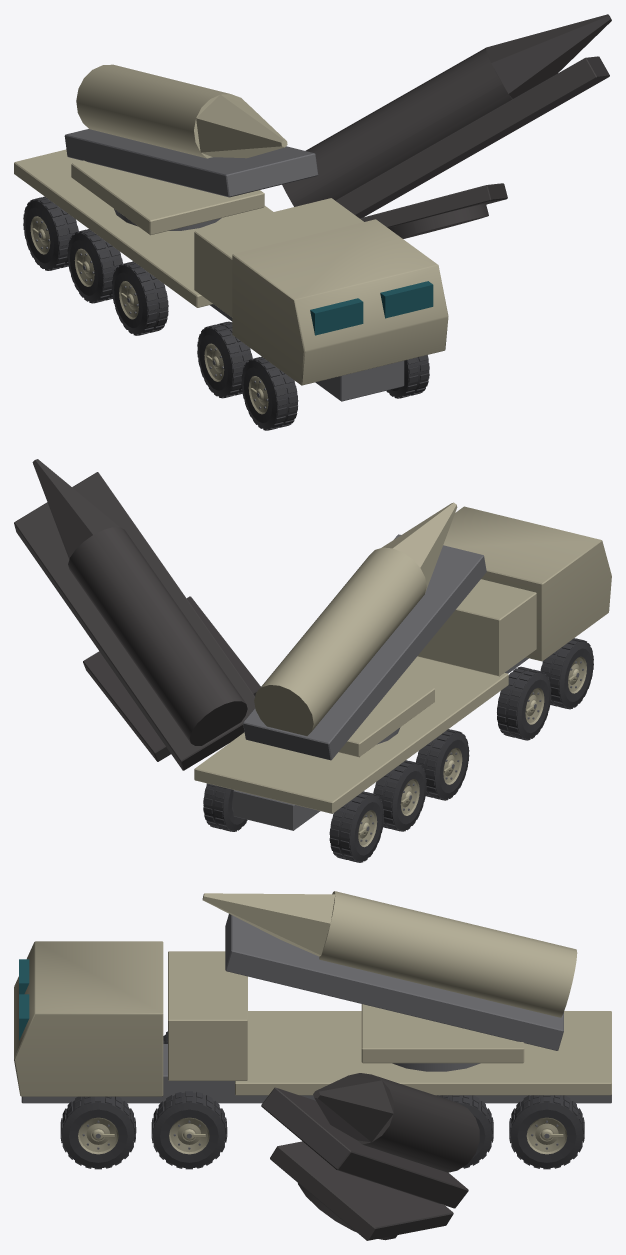
Rendered from df17__df_17_launcher.glb.
3 views of the same model, one above another, from view 1: azimuth 30°, elevation 25°; view 2: azimuth 150°, elevation 25°; view 3: azimuth 270°, elevation 25° (orthographic). The views are drawn at different scales.
Parts seen in each view (by area): view 1: Hull_Mesh, Wreck, Gun_Mesh, Turret_Mesh, Wheel_L2_Mesh, Wheel_L4_Mesh, Wheel_L3_Mesh, Wheel_L0_Mesh, Wheel_L1_Mesh, Wheel_R4_Mesh; view 2: Hull_Mesh, Wreck, Gun_Mesh, Turret_Mesh, Wheel_L3_Mesh, Wheel_L0_Mesh, Wheel_L2_Mesh, Wheel_L1_Mesh, Wheel_L4_Mesh, Wheel_R0_Mesh; view 3: Hull_Mesh, Gun_Mesh, Wreck, Turret_Mesh, Wheel_R3_Mesh, Wheel_R0_Mesh, Wheel_R4_Mesh, Wheel_R1_Mesh.
Boxes of the visible parts, x1,y1,x2,y2 form: Hull_Mesh: [14, 149, 448, 401]; Wreck: [45, 14, 611, 397]; Gun_Mesh: [64, 64, 318, 197]; Turret_Mesh: [71, 160, 264, 235]; Wheel_L2_Mesh: [112, 261, 168, 335]; Wheel_L4_Mesh: [241, 356, 298, 430]; Wheel_L3_Mesh: [197, 321, 252, 398]; Wheel_L0_Mesh: [23, 196, 78, 270]; Wheel_L1_Mesh: [67, 229, 122, 303]; Wheel_R4_Mesh: [386, 355, 429, 398]; Hull_Mesh: [194, 506, 611, 830]; Wreck: [14, 459, 582, 860]; Gun_Mesh: [243, 502, 486, 760]; Turret_Mesh: [338, 679, 434, 757]; Wheel_L3_Mesh: [497, 666, 551, 740]; Wheel_L0_Mesh: [329, 791, 383, 862]; Wheel_L2_Mesh: [416, 729, 469, 800]; Wheel_L1_Mesh: [373, 760, 426, 831]; Wheel_L4_Mesh: [540, 638, 593, 709]; Wheel_R0_Mesh: [203, 783, 247, 831]; Hull_Mesh: [14, 941, 611, 1103]; Gun_Mesh: [202, 891, 577, 1050]; Wreck: [79, 1073, 529, 1240]; Turret_Mesh: [361, 1004, 524, 1071]; Wheel_R3_Mesh: [151, 1091, 227, 1169]; Wheel_R0_Mesh: [509, 1095, 584, 1169]; Wheel_R4_Mesh: [60, 1096, 136, 1169]; Wheel_R1_Mesh: [437, 1095, 493, 1168].
Size of what is drawn, in the model's own units: 8.54 by 4.04 by 9.2.
